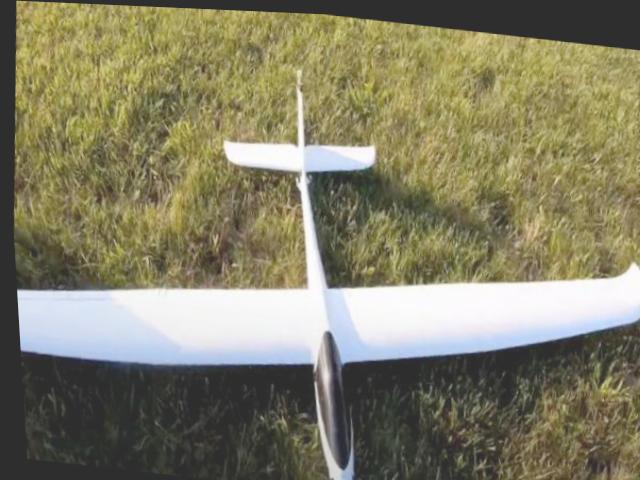iha: (2, 34, 640, 480)
